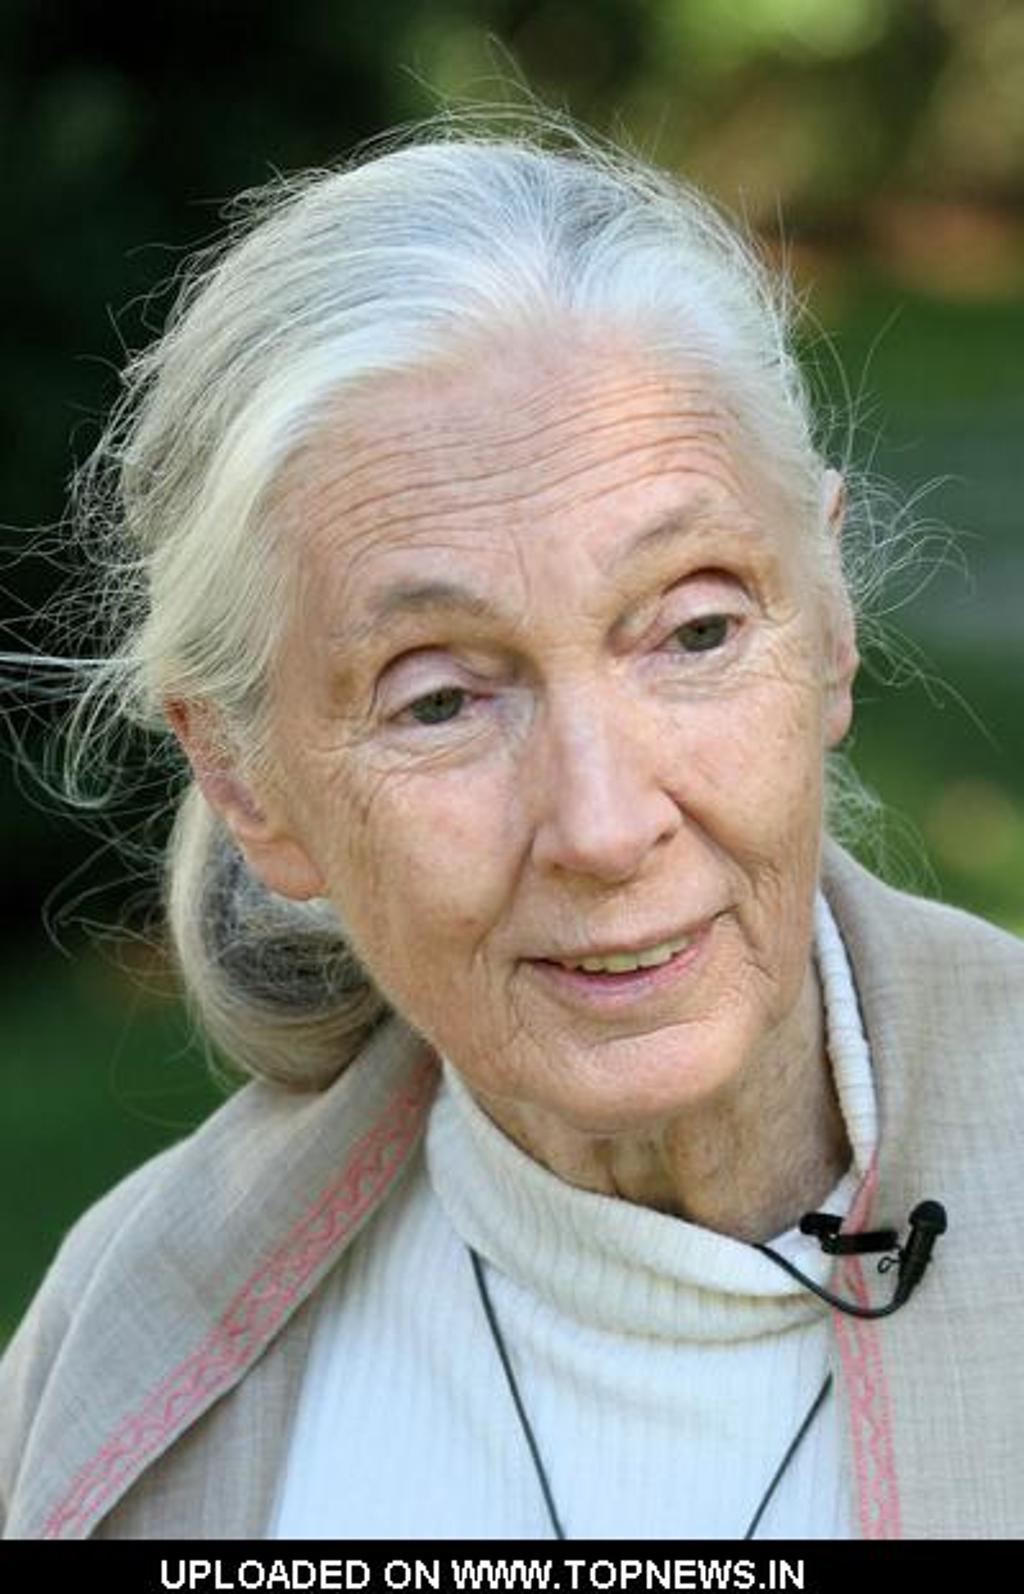face: (274, 339, 822, 1105)
